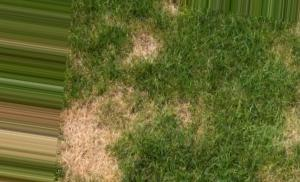patch: (62, 111, 109, 180), (264, 109, 300, 181), (110, 87, 132, 130), (171, 97, 193, 126), (133, 33, 157, 56), (151, 5, 183, 22)
